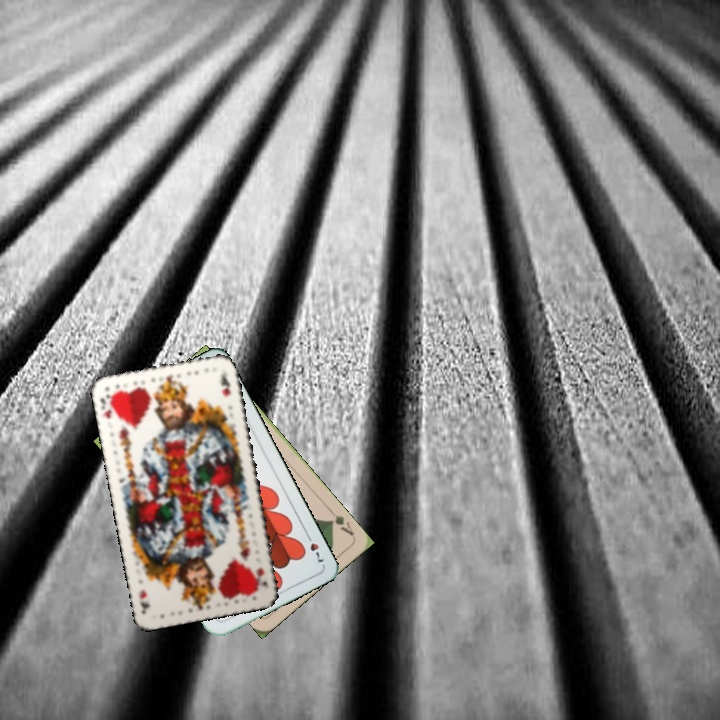GA: (325, 506, 357, 538)
H7: (301, 529, 327, 565)
HK: (96, 390, 119, 421), (252, 563, 270, 593)
